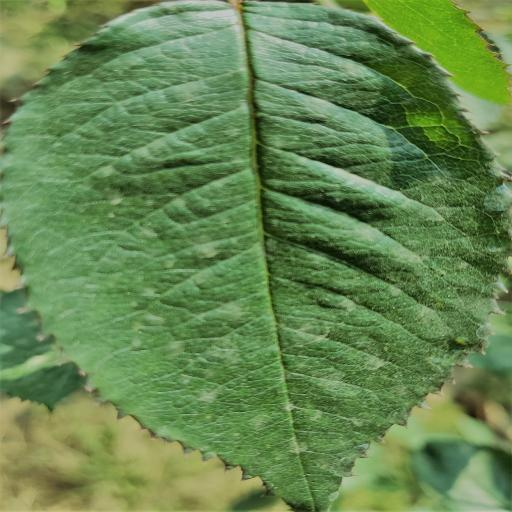healthy_leaf: (2, 0, 512, 512)
